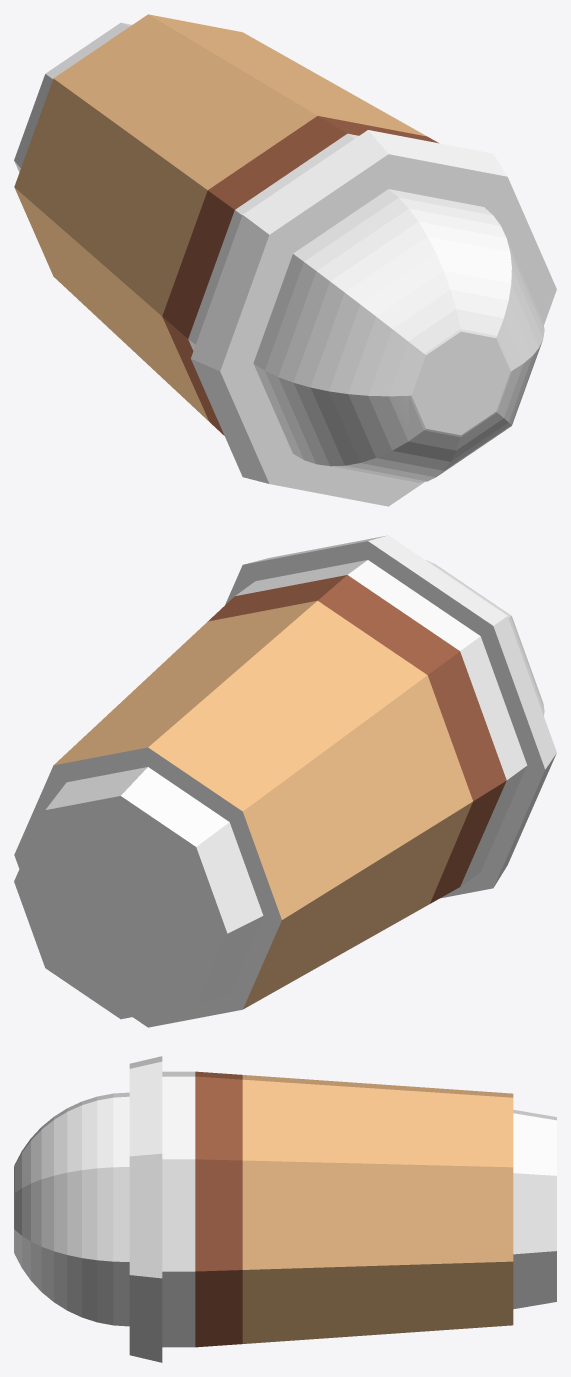
The model's file is plastic_cup_visual.obj.
3 views of the same model, one above another, from view 1: azimuth 30°, elevation 25°; view 2: azimuth 150°, elevation 25°; view 3: azimuth 270°, elevation 25° (orthographic). The views are drawn at different scales.
Visible parts, largest first — view 1: frappe_ID9.003; view 2: frappe_ID9.003; view 3: frappe_ID9.003.
Part boxes in pixels (<box>): frappe_ID9.003: <box>14,14,556,506</box>; frappe_ID9.003: <box>14,535,556,1027</box>; frappe_ID9.003: <box>14,1056,556,1362</box>.
Bounding box in the file's own units: 0.2541 × 0.2541 × 0.4224.
